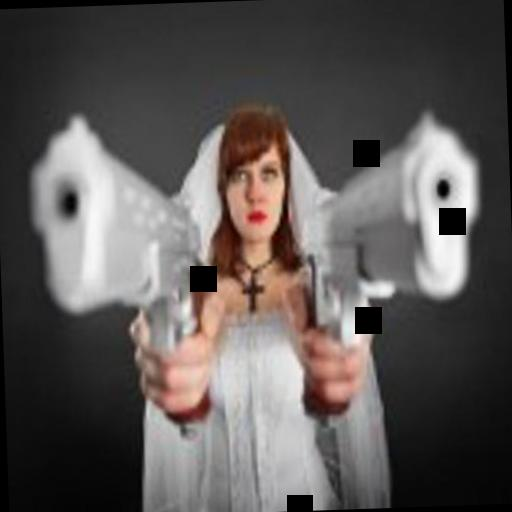Handgun: (282, 102, 492, 415), (21, 104, 215, 432)
